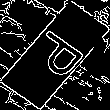P_SE: (21, 25, 89, 85)
